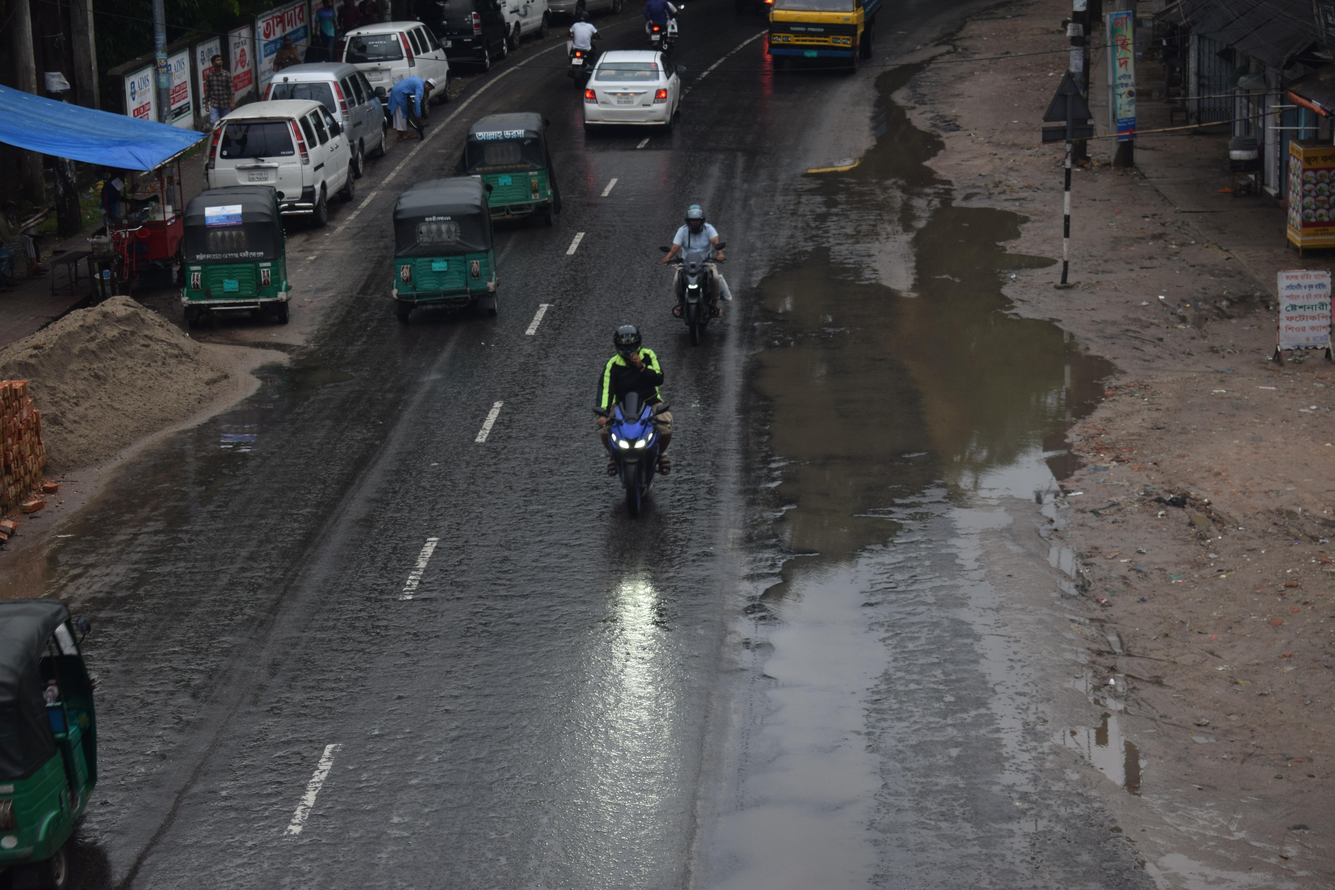Bike: (542, 307, 720, 544), (634, 179, 754, 373)
Car: (178, 82, 371, 229), (572, 46, 697, 157), (334, 18, 465, 119)
Truck: (738, 0, 896, 96)
